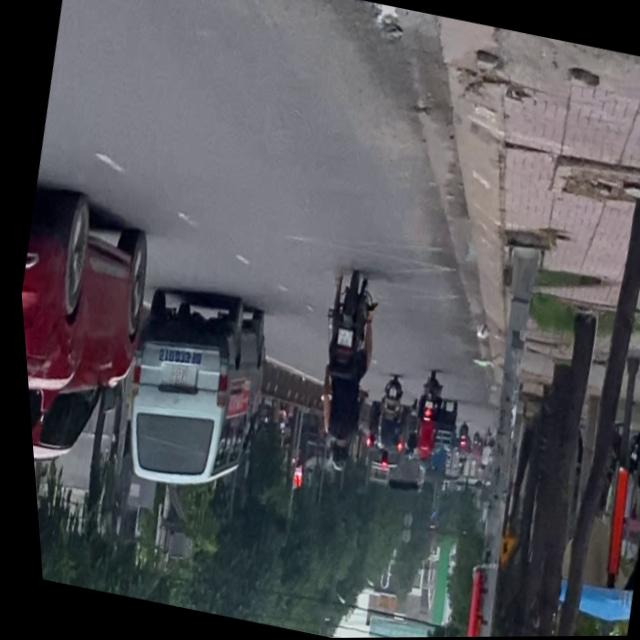helmet: (318, 435, 346, 472)
licenseplate: (286, 262, 396, 476)
nohelmet: (329, 326, 349, 346)
